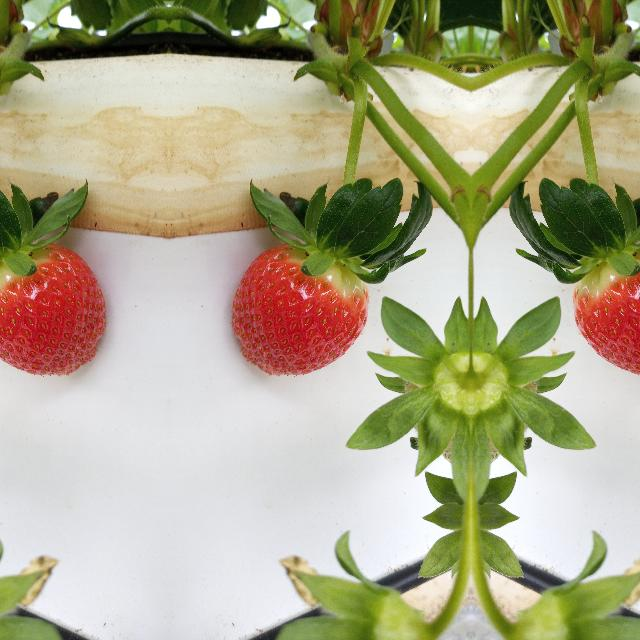Health_100: (229, 243, 369, 377), (0, 243, 107, 377), (572, 243, 640, 377)
